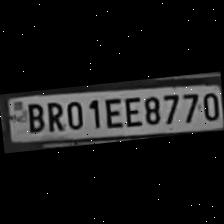0: (196, 88, 222, 122), (62, 96, 84, 130)
1: (82, 96, 102, 130)
7: (159, 90, 181, 124), (177, 89, 199, 123)
8: (140, 91, 162, 125)
B: (22, 100, 44, 134)
E: (120, 92, 142, 128), (100, 94, 122, 128)
R: (41, 98, 64, 133)
